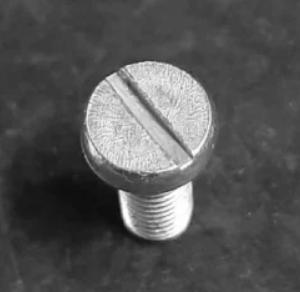screw: (83, 59, 217, 189)
